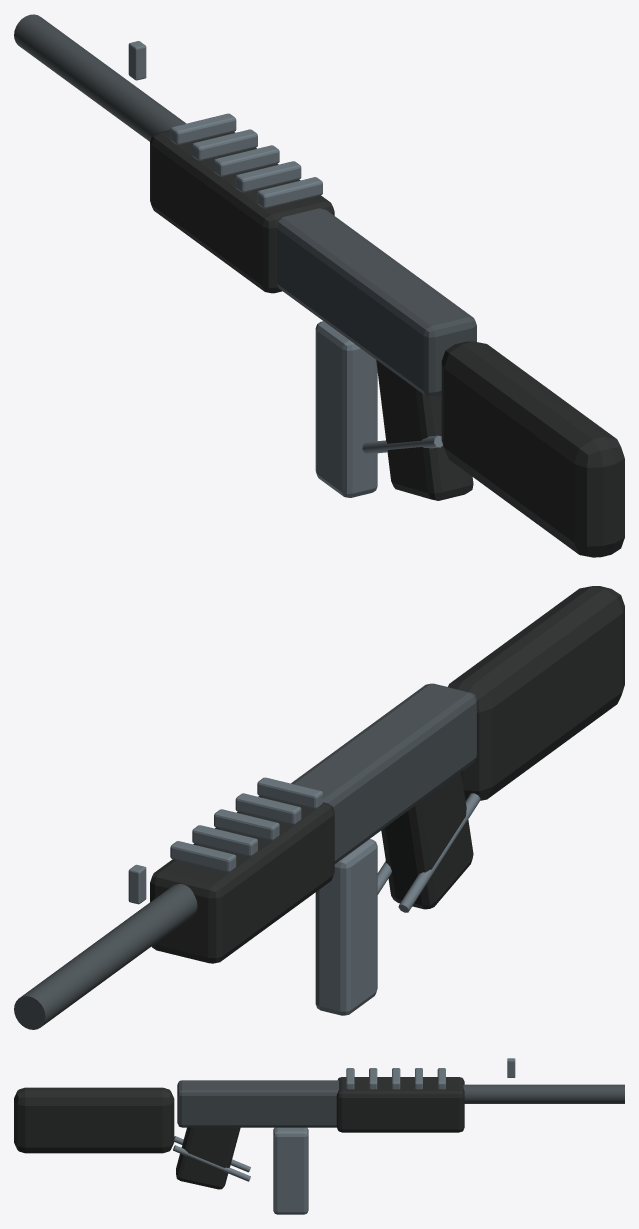
Rendered from Carbine.fbx.
3 views of the same model, one above another, from view 1: azimuth 30°, elevation 25°; view 2: azimuth 150°, elevation 25°; view 3: azimuth 270°, elevation 25° (orthographic). The views are drawn at different scales.
Parts seen in each view (by area): view 1: Body.027; view 2: Body.027; view 3: Body.027.
Boxes of the visible parts, x1=… form: Body.027: x1=14, y1=14, x2=624, y2=557; Body.027: x1=14, y1=586, x2=624, y2=1029; Body.027: x1=14, y1=1058, x2=624, y2=1214.
Size of the model in its own units: 0.095 by 0.367 by 1.34.
